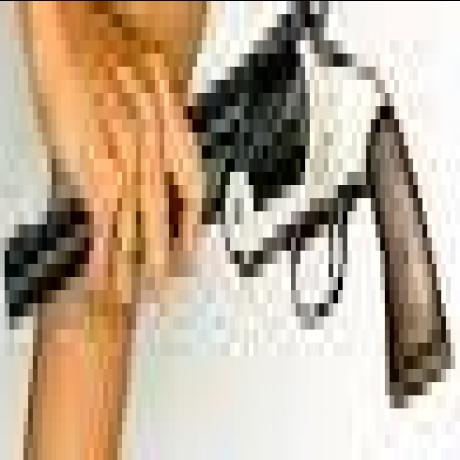weapon: (0, 24, 460, 408)
